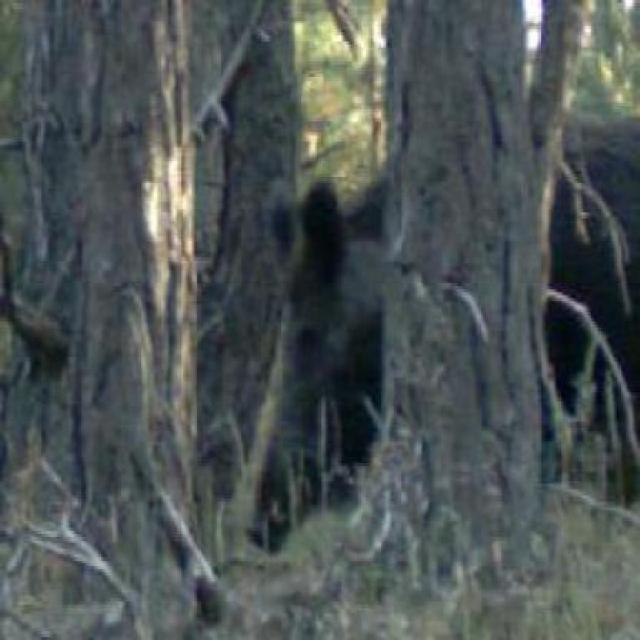Boar: (242, 118, 638, 511)
